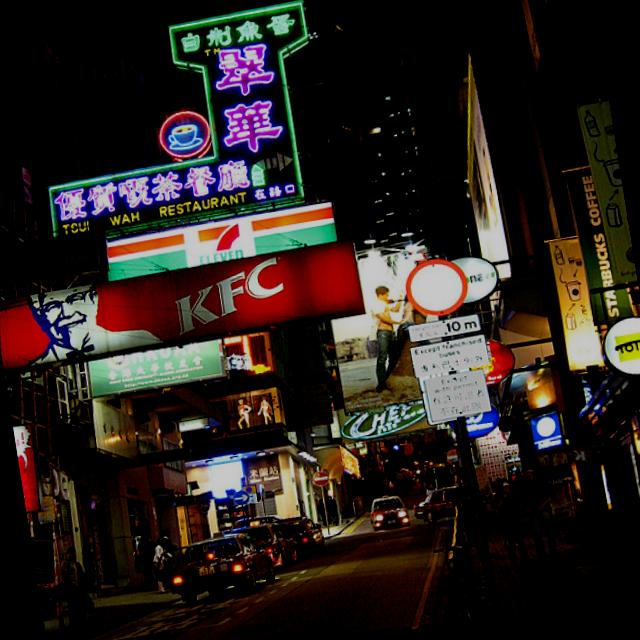Vehicle: (150, 529, 278, 610), (227, 518, 300, 576), (274, 512, 328, 558), (410, 485, 464, 527), (366, 492, 412, 532), (230, 512, 284, 532)
